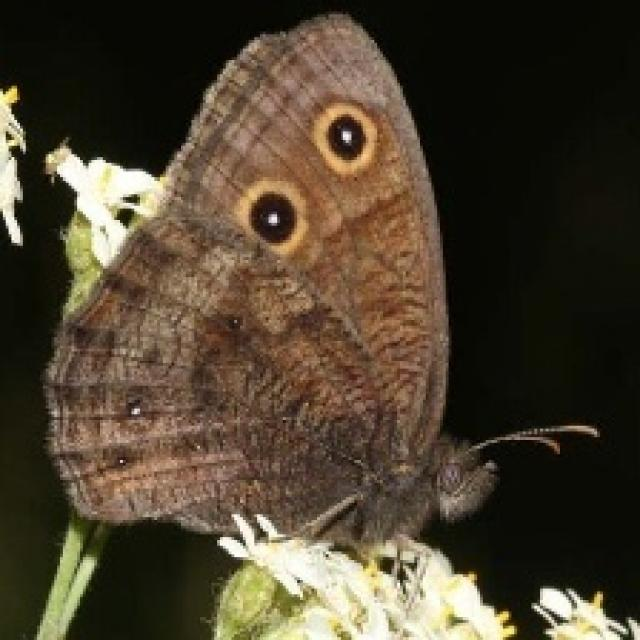butterfly: (37, 8, 600, 583)
